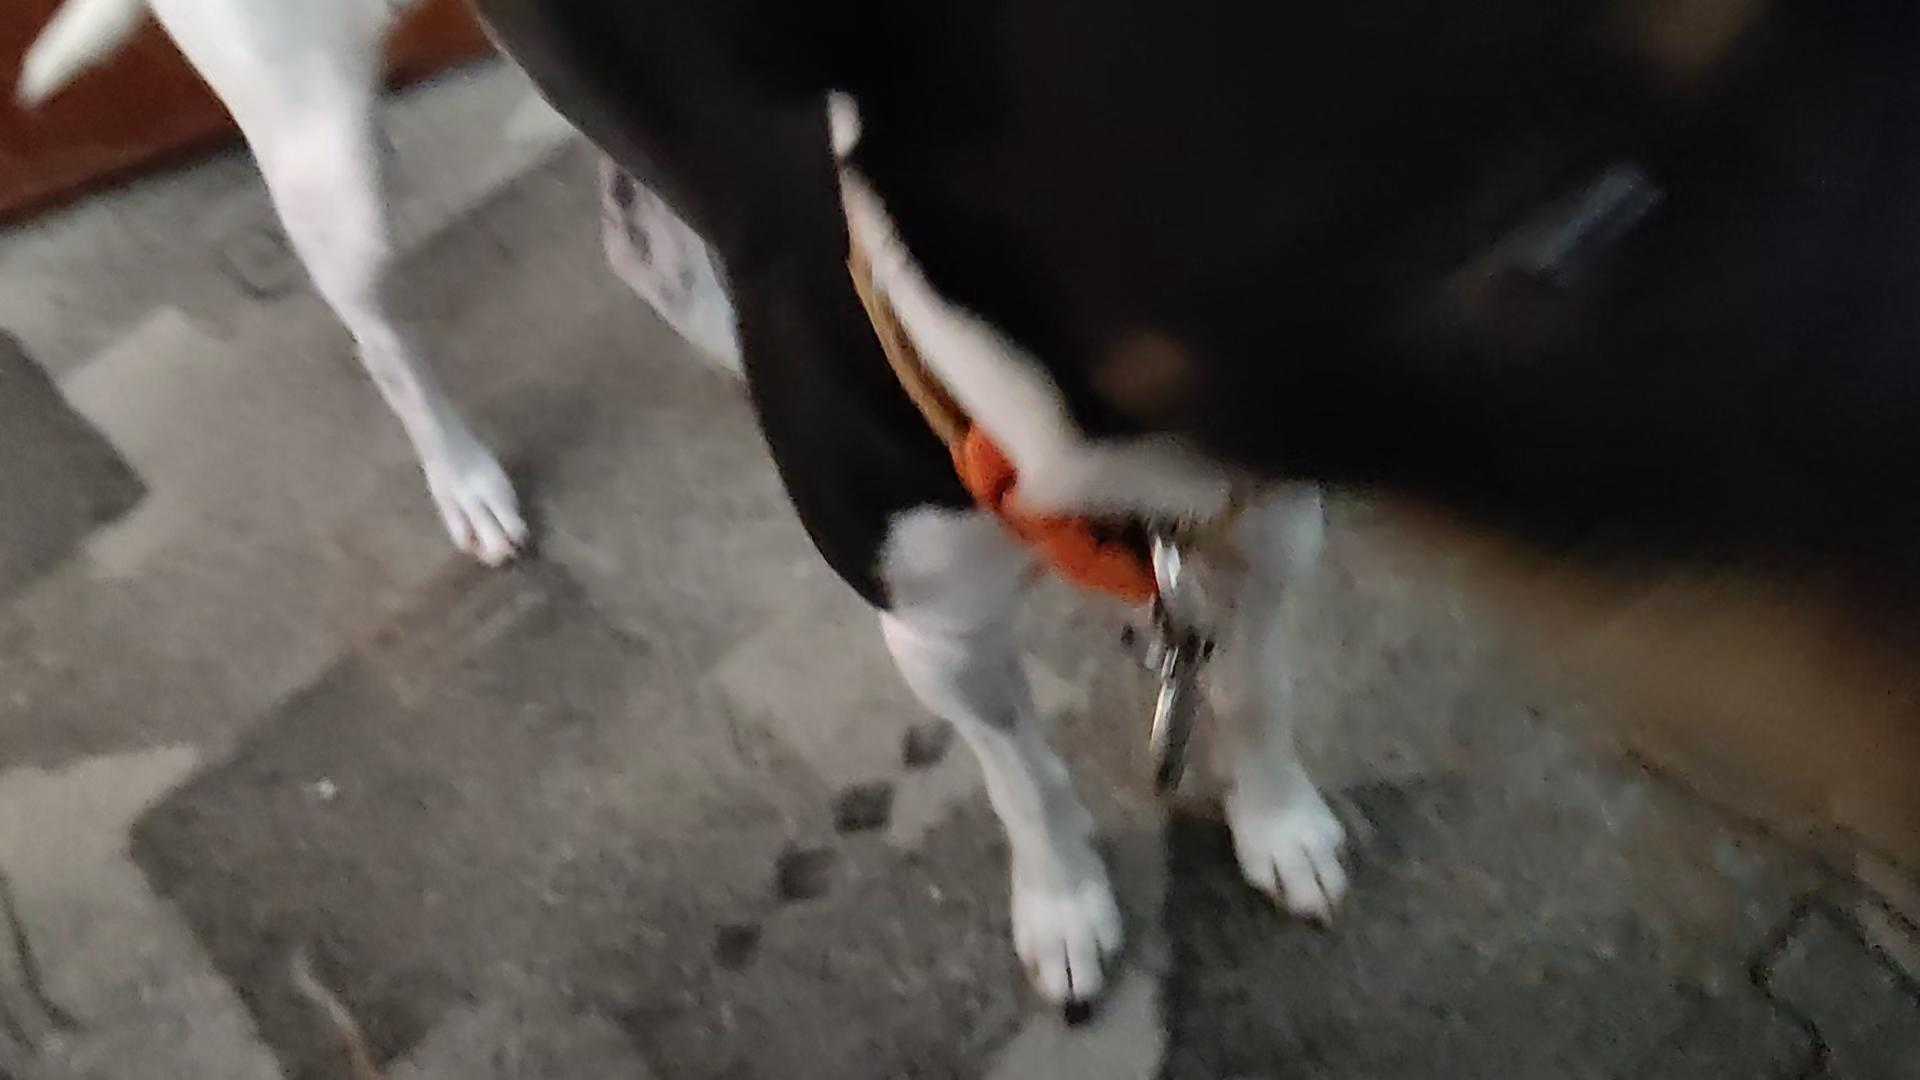Dog: (13, 0, 1919, 1079)
